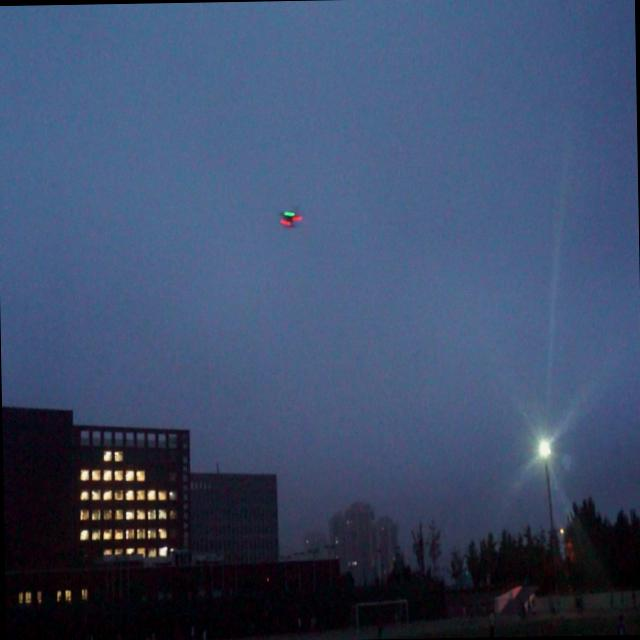drone: (276, 204, 302, 234)
